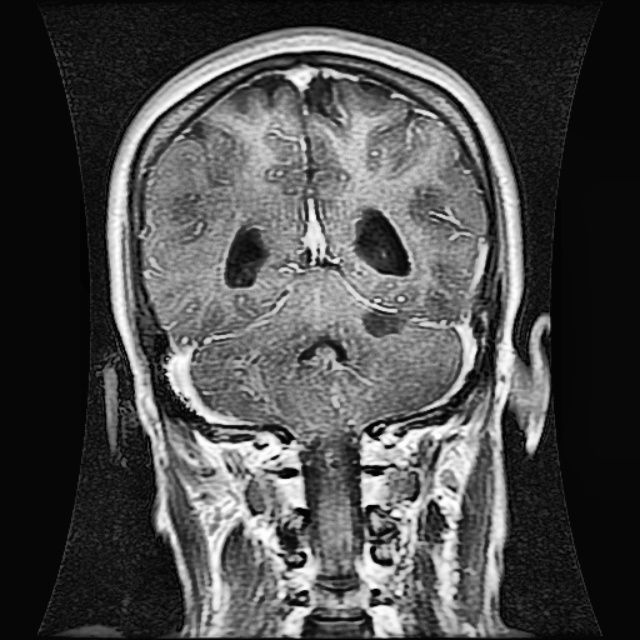Meningioma: (358, 302, 409, 337)
